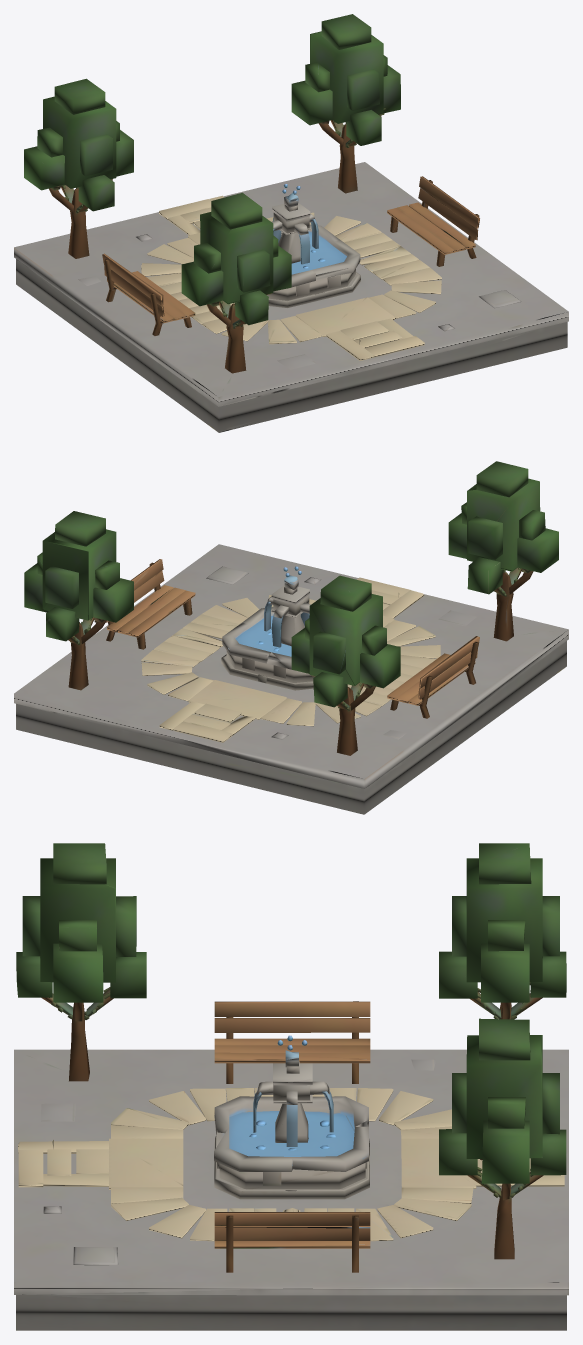
The model's file is 39-park-with-fountain.glb.
The picture shows the model from 3 angles, top to bottom: view 1: azimuth 30°, elevation 25°; view 2: azimuth 150°, elevation 25°; view 3: azimuth 270°, elevation 25°; orthographic projection. The views are drawn at different scales.
Parts seen in each view (by area): view 1: geometry_0; view 2: geometry_0; view 3: geometry_0.
Part boxes in pixels (left/top/right/bottom): geometry_0: left=14, top=14, right=568, bottom=432; geometry_0: left=14, top=461, right=568, bottom=814; geometry_0: left=14, top=843, right=568, bottom=1330.
Bounding box in the file's own units: 0.9507 × 0.5103 × 0.937.
Materials: 1 (1 with a texture image).
